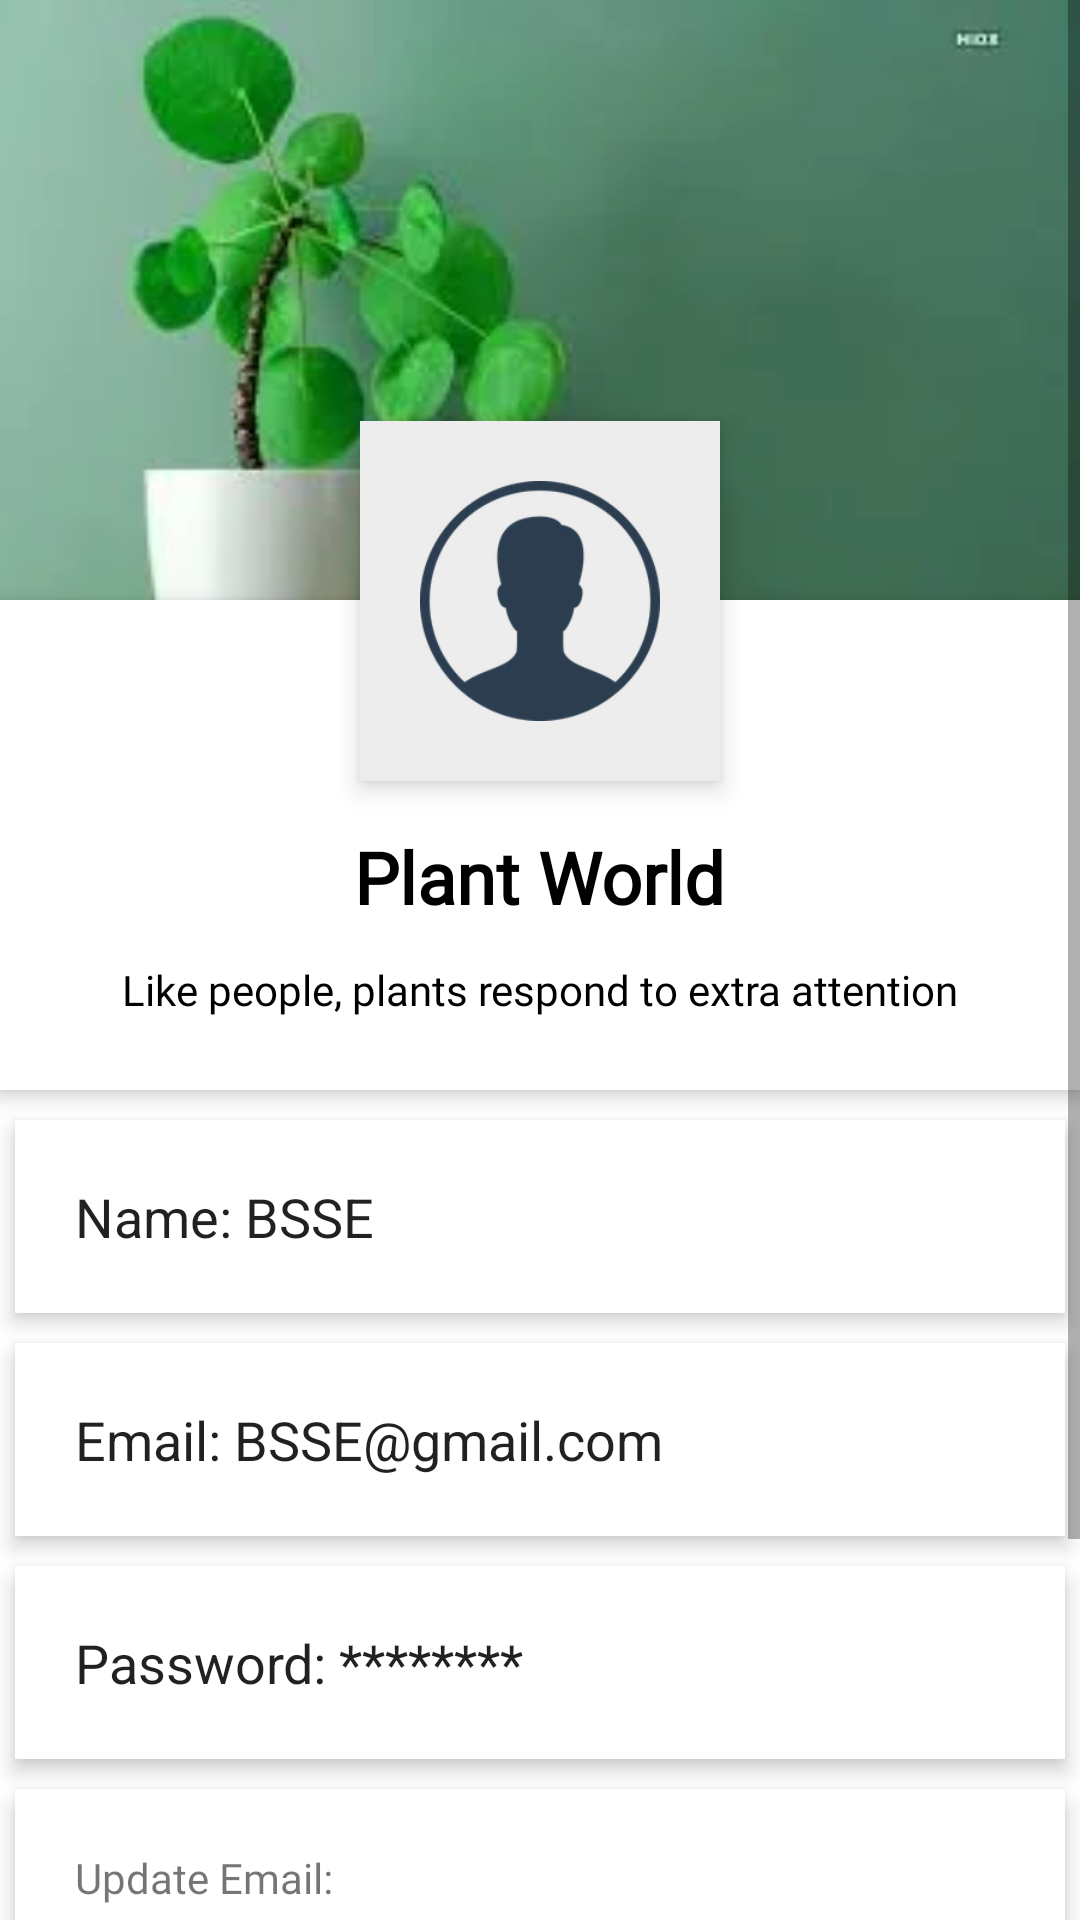

Named icons in this screenshot (1080 x 1920) and their centers, [x,y]:
person: [540,601]
